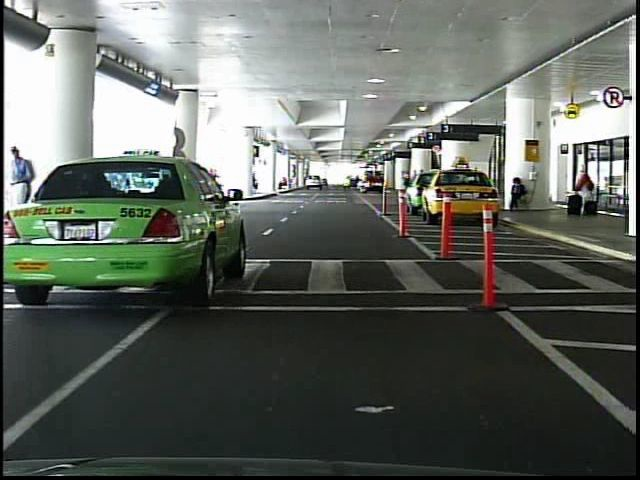person: (6, 143, 37, 248), (572, 167, 602, 217), (506, 177, 527, 211)
